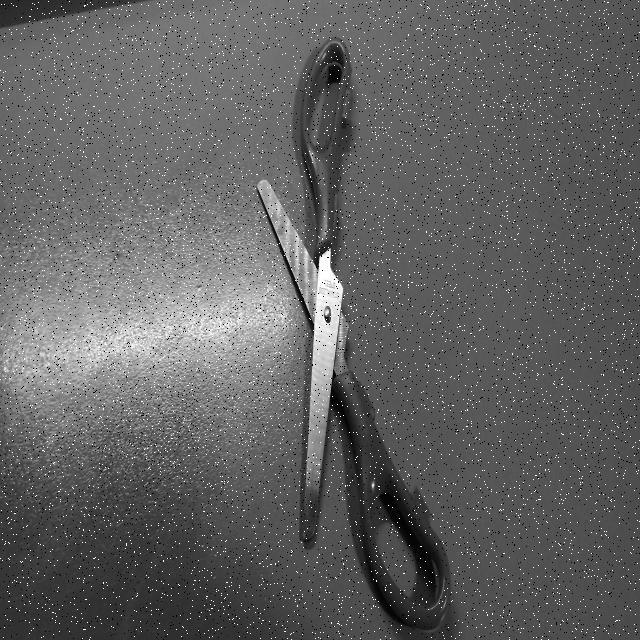scissors: (254, 28, 453, 632)
